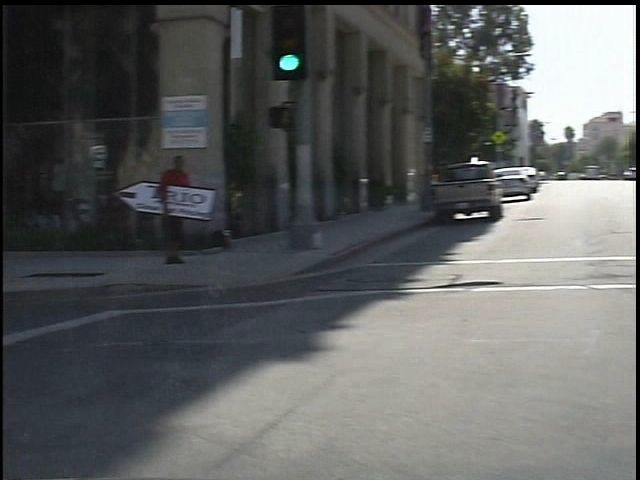person: (147, 152, 188, 274)
